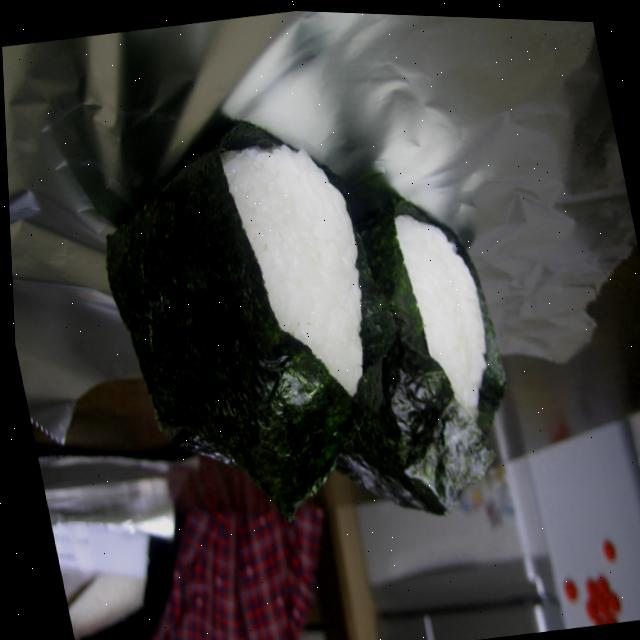米饭主食: (71, 78, 422, 547), (264, 174, 544, 547)
